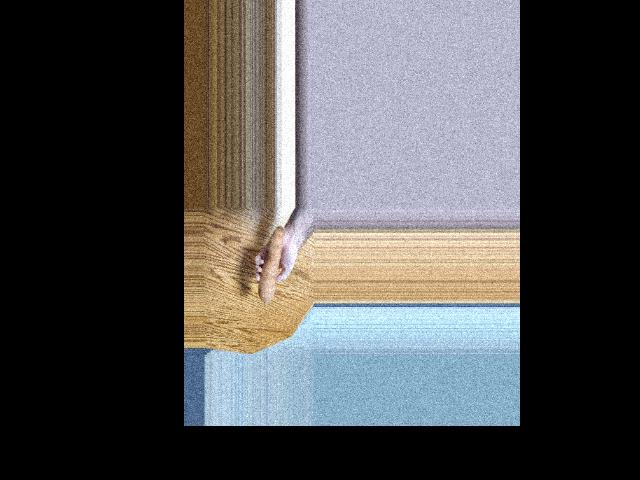sweet_potato: (254, 230, 287, 307)
